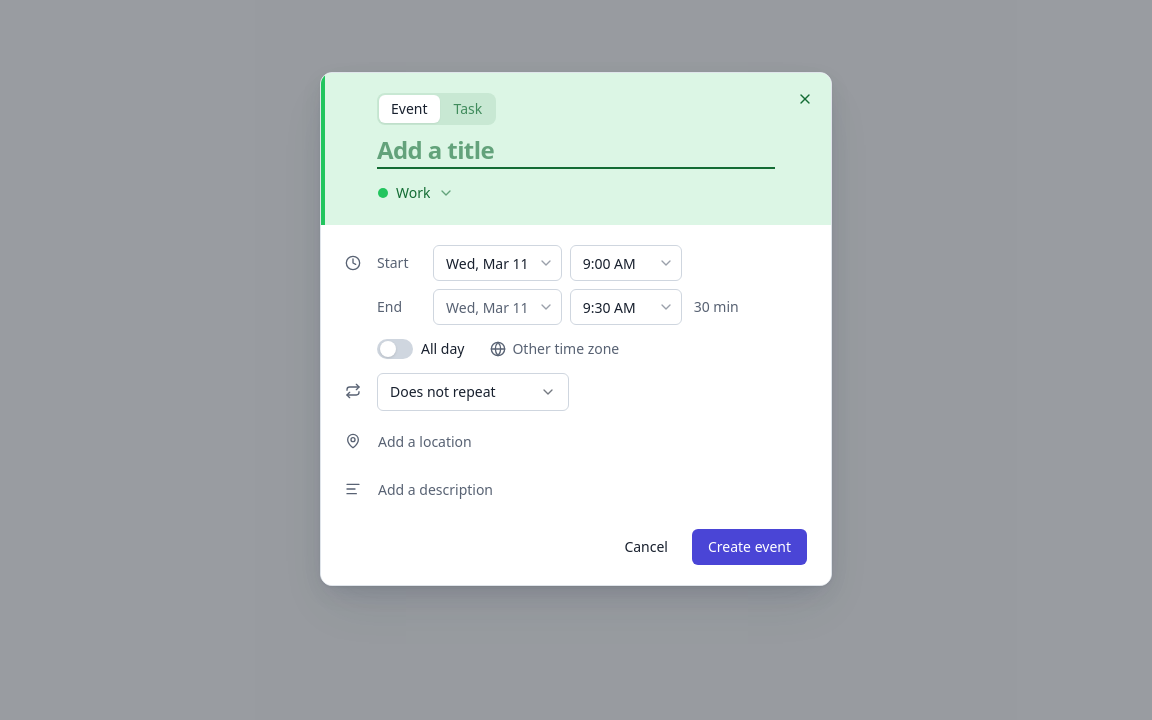
Test: EditorDialog › takes the sidebar's list for the task rather than the event's calendar
Expected: the dropdown named "Calendar" reads "Work", [369,177,464,209]
Click the radio button "Task" at (468, 109), box [442,95,494,123]
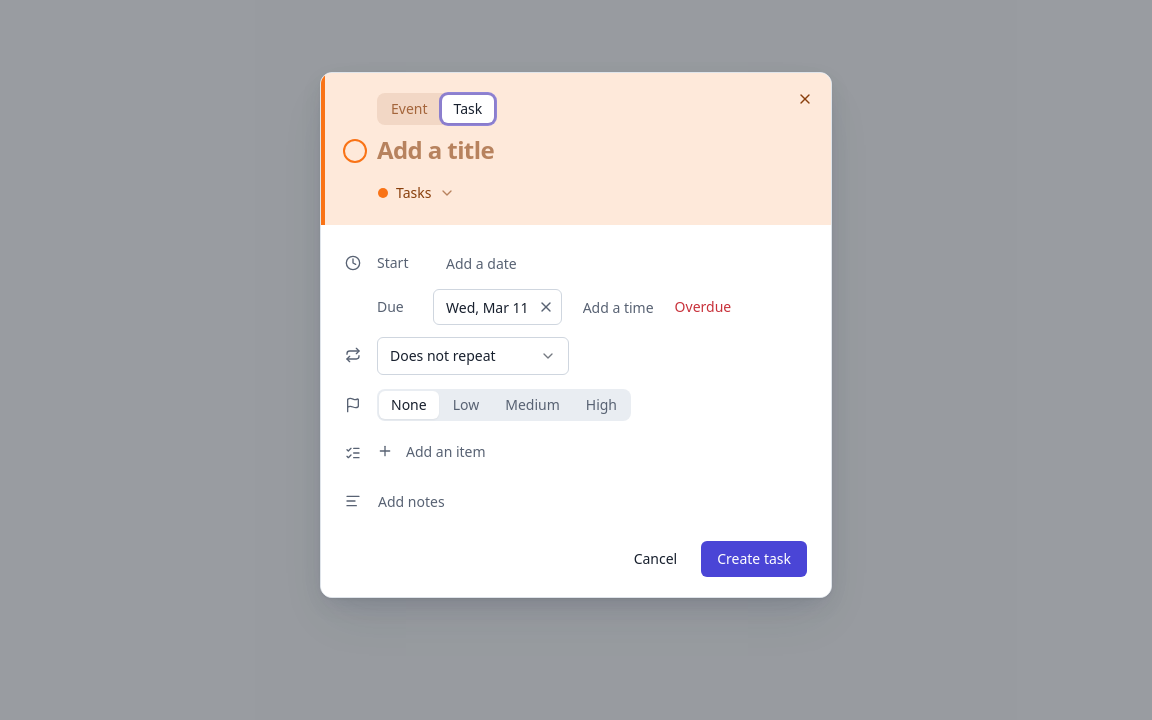
Expected: the dropdown named "Task list" reads "Tasks", [369,177,464,209]
